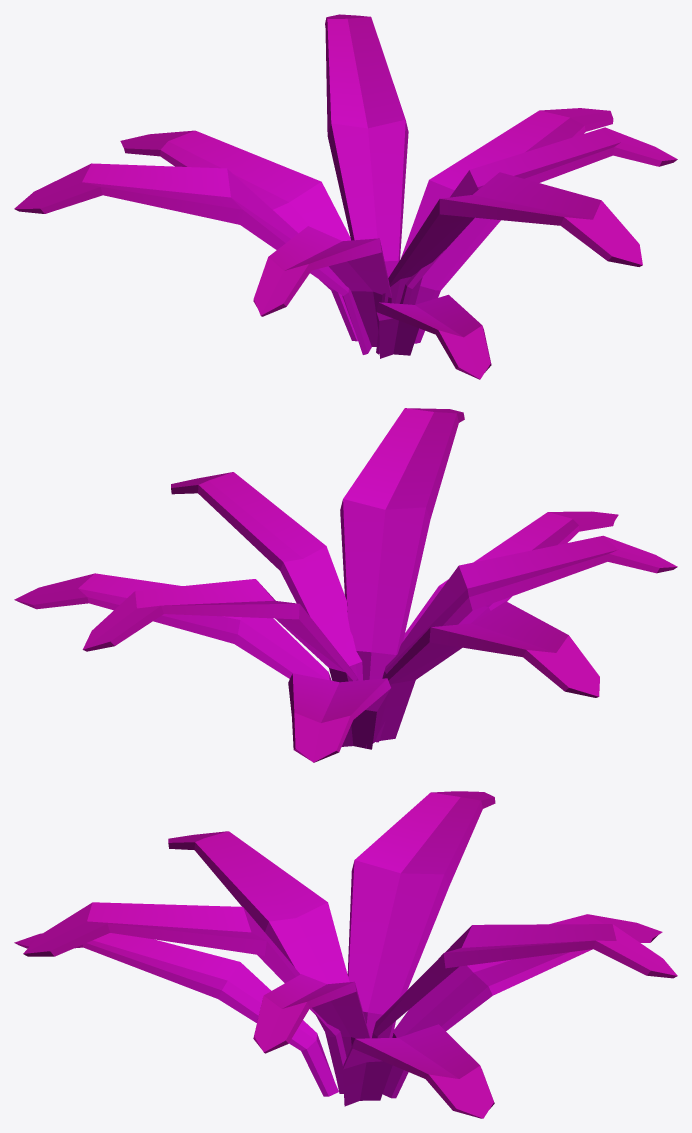
File: SM_Plant_01.gltf
The picture shows the model from 3 angles, top to bottom: view 1: azimuth 30°, elevation 25°; view 2: azimuth 150°, elevation 25°; view 3: azimuth 270°, elevation 25°; orthographic projection. The views are drawn at different scales.
Parts seen in each view (by area): view 1: SM_Plant_01; view 2: SM_Plant_01; view 3: SM_Plant_01.
Part boxes in pixels (x1,y1,x2,y2): SM_Plant_01: (14, 14, 677, 379); SM_Plant_01: (14, 408, 677, 762); SM_Plant_01: (14, 791, 677, 1118).
Bounding box in the file's own units: 1.37 × 0.479 × 1.37.
